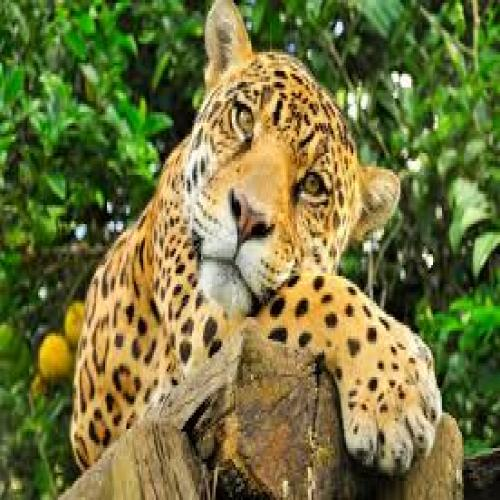jaguar_not-endangered: (69, 0, 444, 464)
